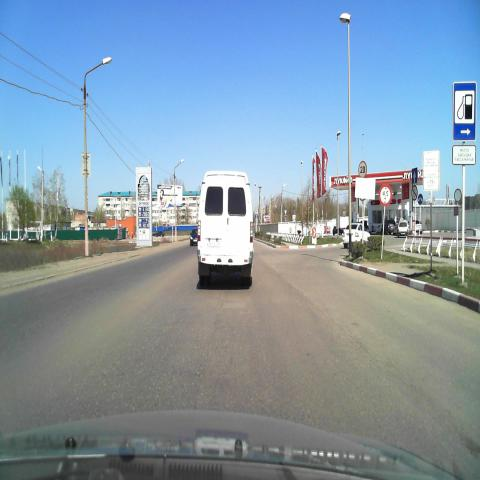3_13: (378, 184, 392, 206)
3_2: (453, 188, 461, 203)
